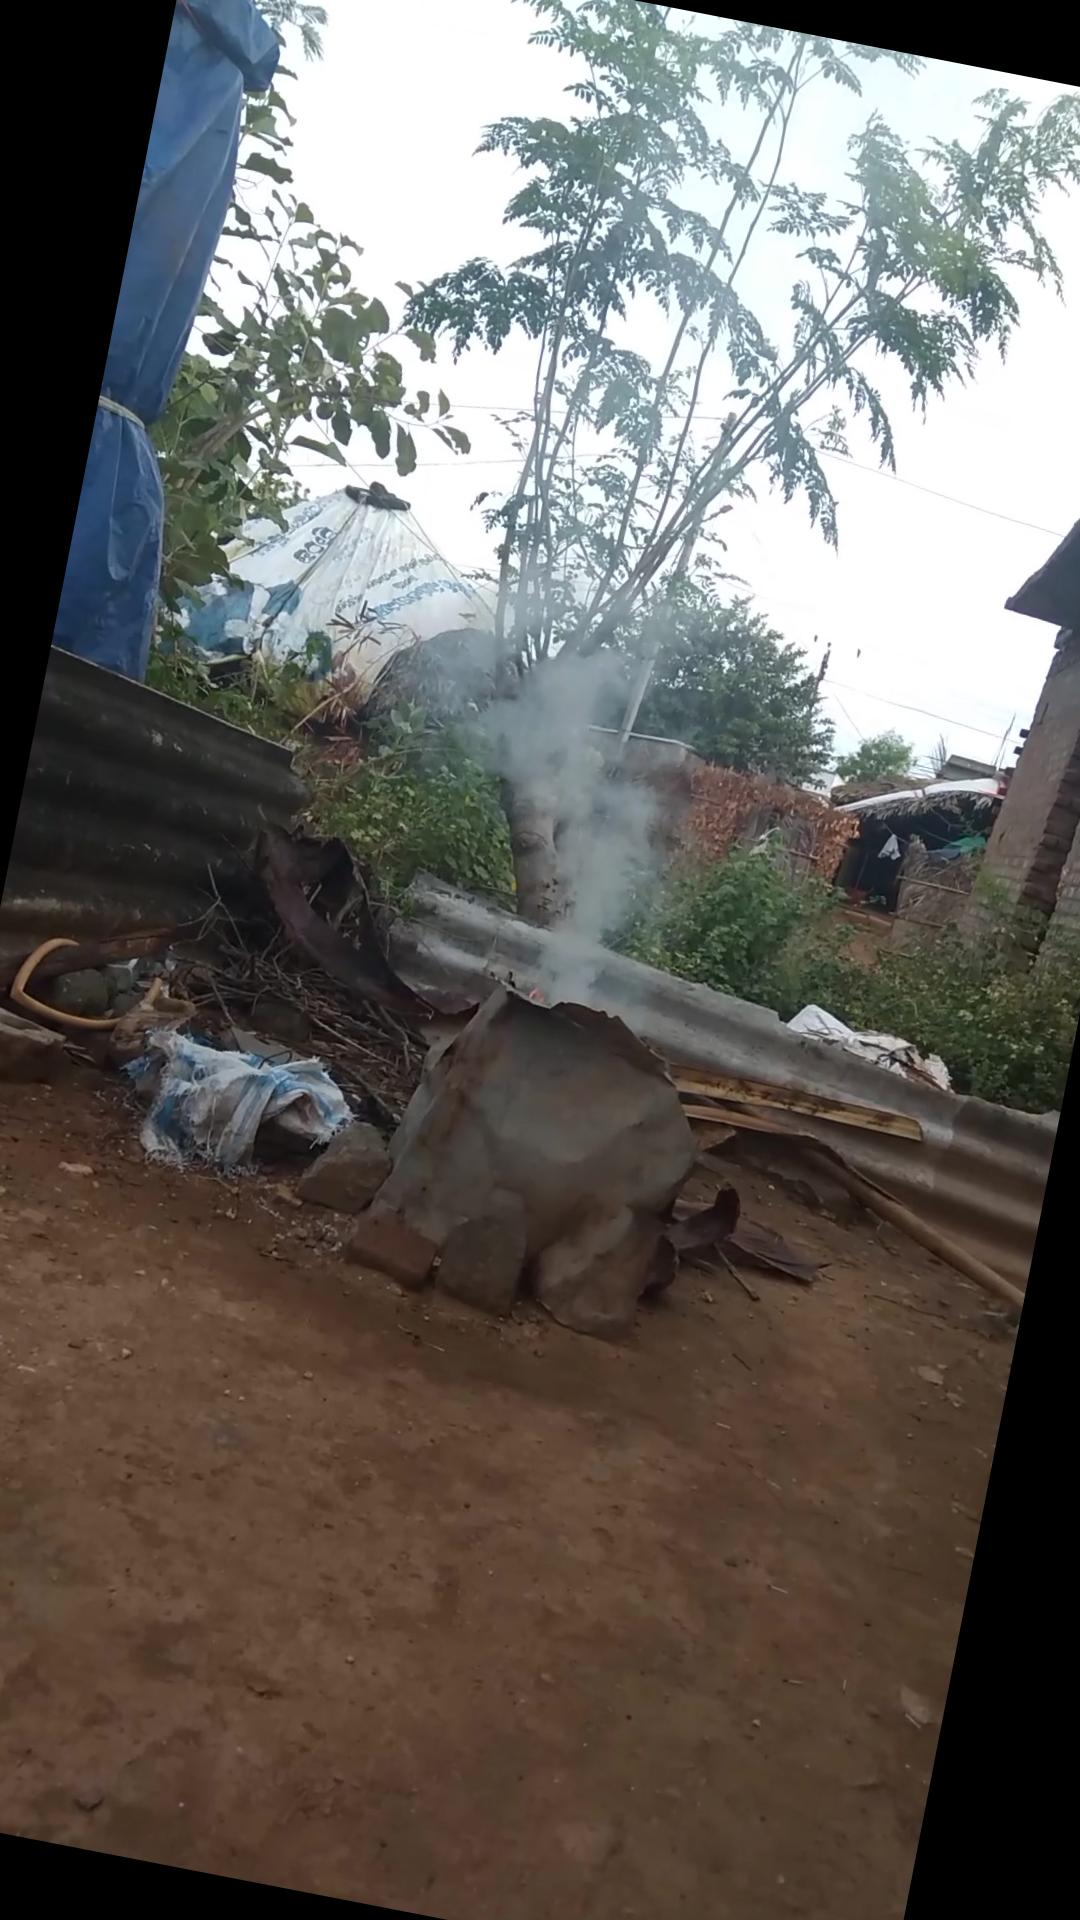Smoke: (349, 545, 731, 1025)
